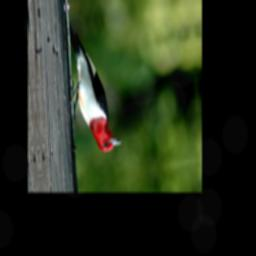Woodpecker: (59, 8, 123, 160)
